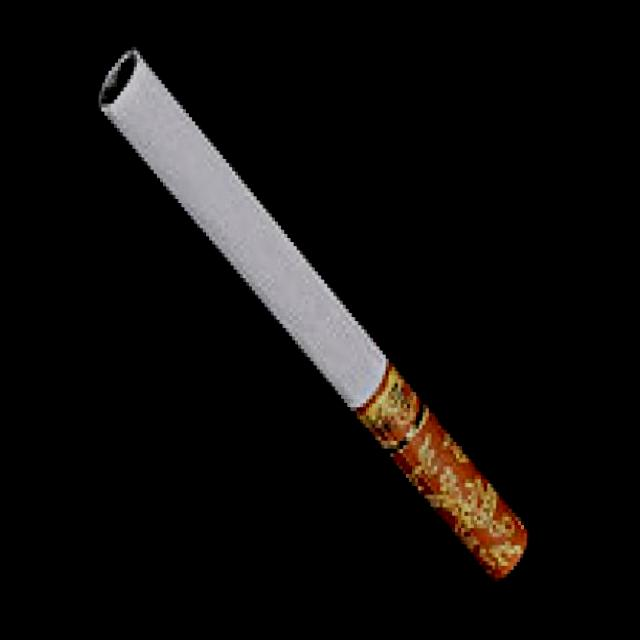smoke: (83, 49, 538, 586)
